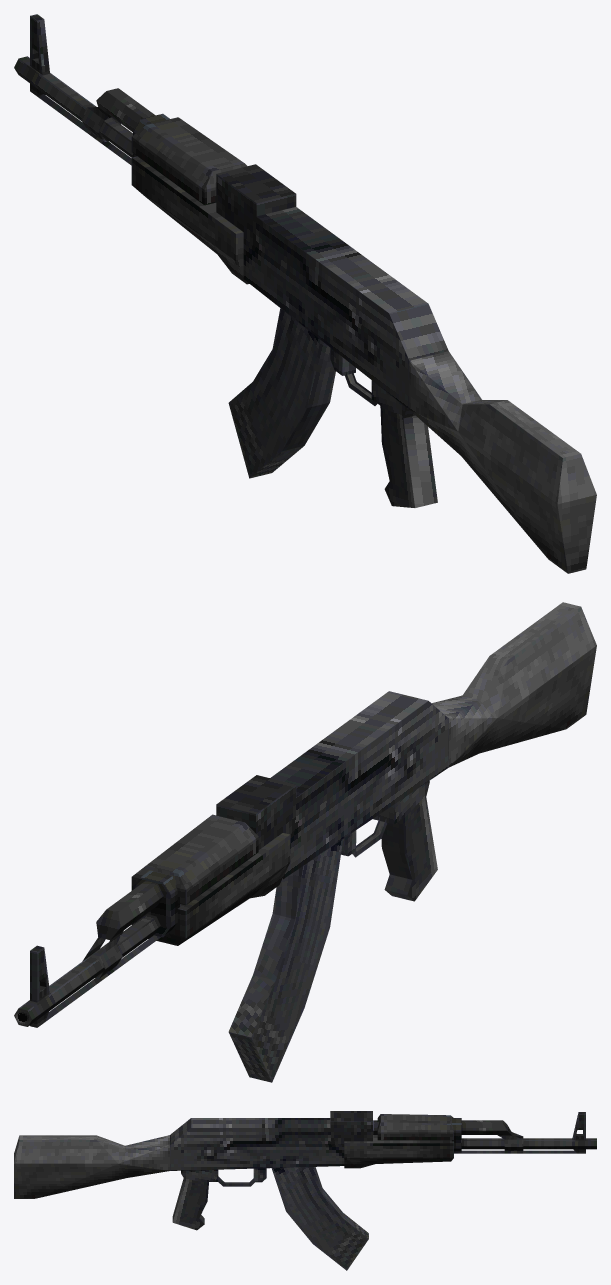
File: recovered_gun_ak47.glb
The picture shows the model from 3 angles, top to bottom: view 1: azimuth 30°, elevation 25°; view 2: azimuth 150°, elevation 25°; view 3: azimuth 270°, elevation 25°; orthographic projection. The views are drawn at different scales.
Visible parts, largest first — view 1: Gun_b05b1777dbfa; view 2: Gun_b05b1777dbfa; view 3: Gun_b05b1777dbfa.
Boxes of the visible parts, box(x1,y1,x2,y2) form: Gun_b05b1777dbfa: box(14, 14, 596, 573); Gun_b05b1777dbfa: box(19, 602, 596, 1082); Gun_b05b1777dbfa: box(14, 1111, 596, 1270).
Bounding box in the file's own units: 0.0505 × 0.2623 × 0.8945.
2 materials, 2 textured.
